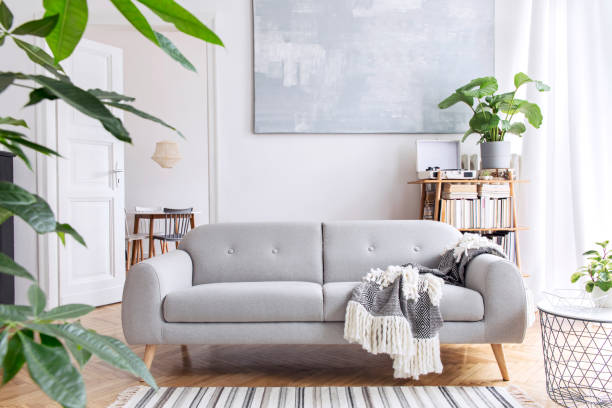dining table set: (120, 202, 196, 278)
small plant: (437, 70, 552, 170), (570, 237, 612, 310)
sofa: (118, 219, 530, 383)
table: (536, 292, 611, 408)
wall art: (248, 0, 499, 135)
